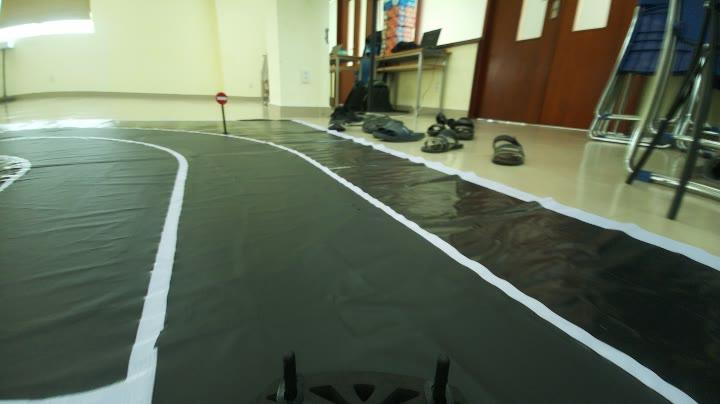no_entry: (215, 91, 229, 106)
